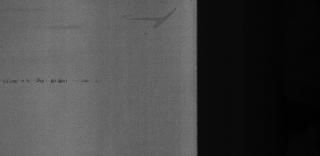oil spot: (130, 6, 178, 31), (2, 76, 104, 86)
